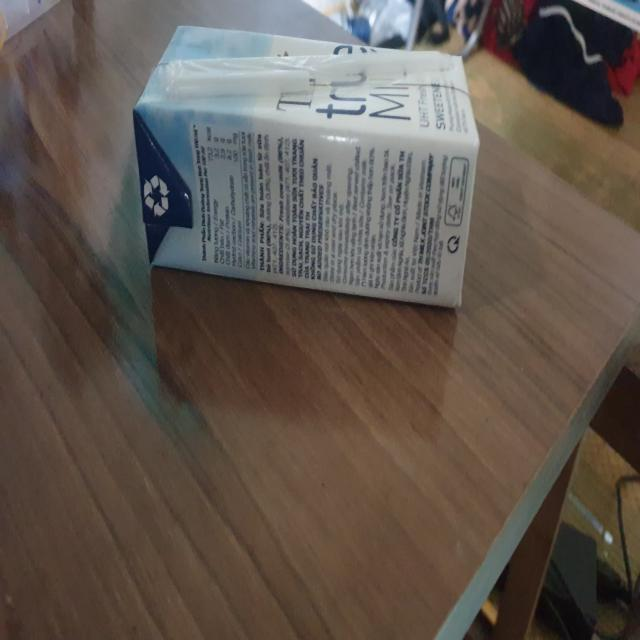TH: (129, 12, 484, 321)
